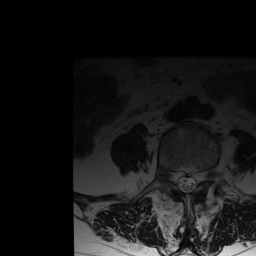CCS_normal: (182, 164, 190, 197)
LFS_normal: (199, 162, 207, 187)
LLS_normal: (190, 164, 198, 193)
RFS_normal: (167, 161, 175, 190)
RLS_normal: (175, 164, 182, 193)
